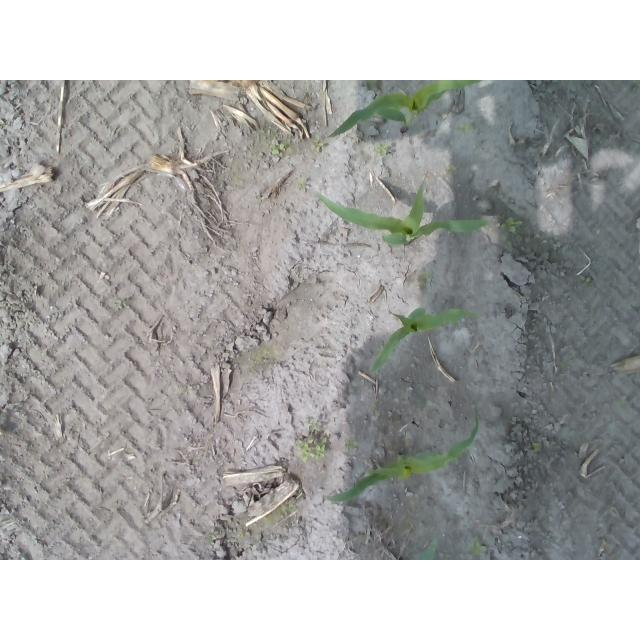Maize: (320, 406, 479, 503), (315, 179, 490, 250), (326, 80, 482, 140), (369, 305, 464, 375)
Weeds: (500, 215, 524, 249), (295, 436, 326, 461), (469, 538, 491, 556), (308, 137, 324, 152), (374, 141, 391, 155), (461, 121, 475, 137), (270, 142, 286, 154), (446, 164, 459, 177), (527, 442, 541, 453)
